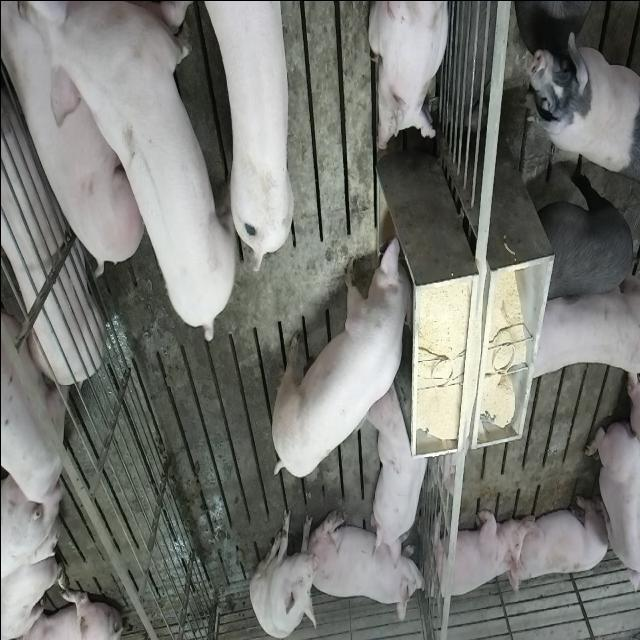Feeding: (266, 231, 411, 478)
Lateral_lying: (0, 2, 102, 386)
Sitting: (249, 506, 319, 638)
Standing: (42, 3, 242, 350), (41, 0, 159, 281), (209, 0, 295, 269), (520, 30, 638, 176), (0, 286, 67, 518), (529, 158, 636, 302), (521, 271, 637, 385)
Sternal_lying: (368, 0, 450, 156), (314, 508, 424, 624), (370, 378, 431, 564), (584, 417, 638, 604), (510, 491, 610, 590), (426, 505, 524, 604)
